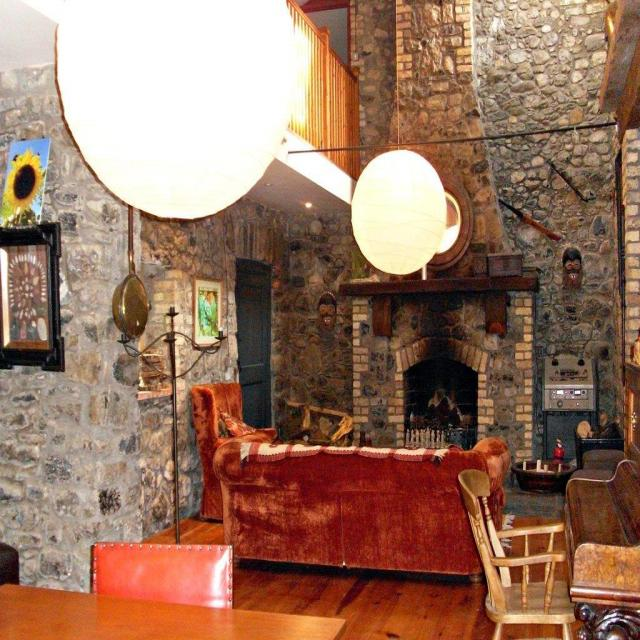Table: (0, 580, 348, 640)
